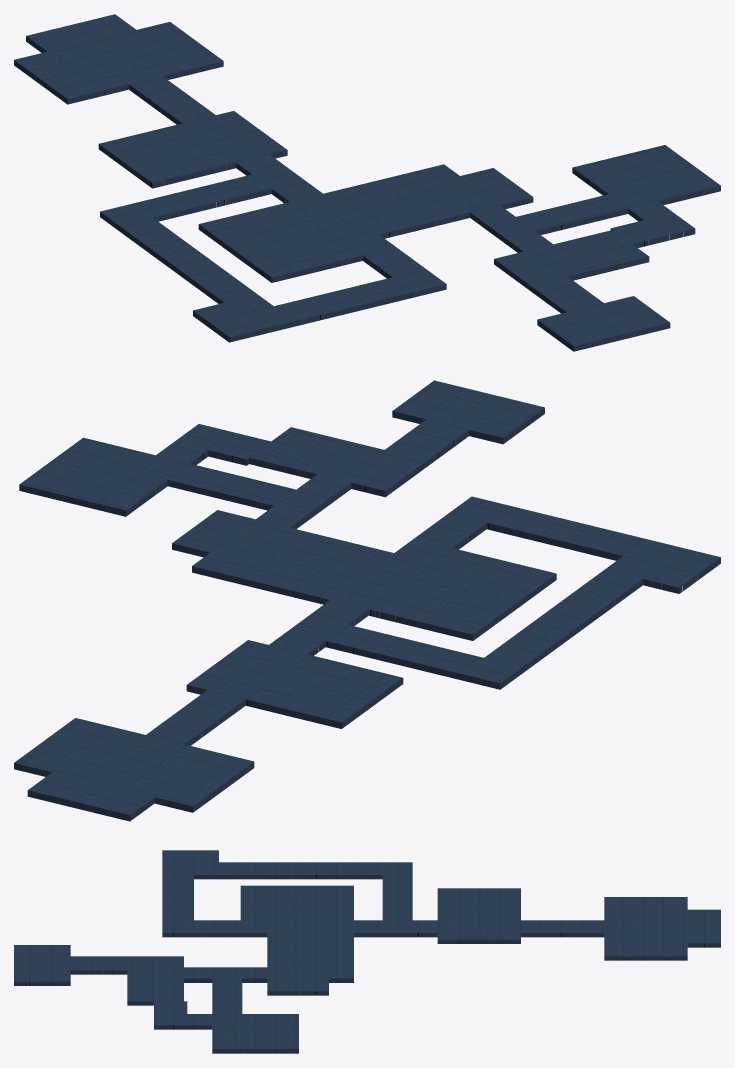
Rendered from Ceilings.fbx.
3 views of the same model, one above another, from view 1: azimuth 30°, elevation 25°; view 2: azimuth 150°, elevation 25°; view 3: azimuth 270°, elevation 25° (orthographic). The views are drawn at different scales.
Parts seen in each view (by area): view 1: Floor25, Floor23, Floor29, Floor21, Floor17, Floor18, Ceilings, Floor19, Floor26, Floor28, Floor20, Floor30 (+4 smaller); view 2: Floor25, Floor17, Floor23, Floor21, Floor29, Ceilings, Floor18, Floor26, Floor19, Floor28, Floor20, Floor30 (+4 smaller); view 3: Floor25, Floor29, Floor21, Floor23, Floor17, Floor18, Ceilings, Floor19, Floor26, Floor28, Floor20, Floor22 (+4 smaller).
Boxes of the visible parts, x1,y1,x2,y2 form: Floor25: [14, 14, 223, 104]; Floor23: [98, 111, 287, 188]; Floor29: [572, 145, 720, 247]; Floor21: [100, 174, 271, 303]; Floor17: [198, 164, 533, 243]; Floor18: [309, 185, 473, 254]; Ceilings: [218, 215, 364, 282]; Floor19: [274, 247, 446, 326]; Floor26: [494, 230, 649, 290]; Floor28: [537, 296, 670, 351]; Floor20: [193, 294, 294, 342]; Floor30: [516, 194, 627, 234]; Floor25: [14, 718, 254, 821]; Floor17: [172, 510, 495, 640]; Floor23: [186, 640, 403, 728]; Floor21: [325, 569, 642, 689]; Floor29: [19, 424, 270, 516]; Ceilings: [389, 547, 556, 624]; Floor18: [244, 526, 449, 592]; Floor26: [249, 427, 427, 497]; Floor19: [414, 496, 645, 560]; Floor28: [392, 380, 544, 444]; Floor20: [605, 539, 720, 593]; Floor30: [167, 463, 295, 510]; Floor25: [604, 897, 720, 960]; Floor29: [154, 1001, 298, 1053]; Floor21: [219, 862, 412, 920]; Floor23: [437, 888, 520, 943]; Floor17: [267, 885, 353, 995]; Floor18: [240, 921, 327, 968]; Ceilings: [240, 885, 323, 920]; Floor19: [162, 875, 240, 937]; Floor26: [127, 956, 183, 1005]; Floor28: [14, 945, 70, 985]; Floor20: [162, 850, 218, 879]; Floor22: [354, 920, 437, 937].
Bounding box in the file's own units: 8814 × 89.62 × 13253.
